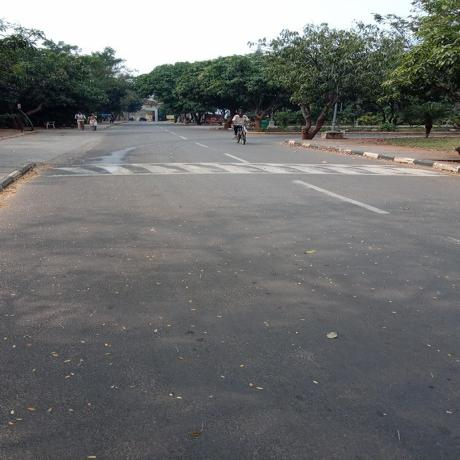Speed Bump: (31, 163, 447, 175)
